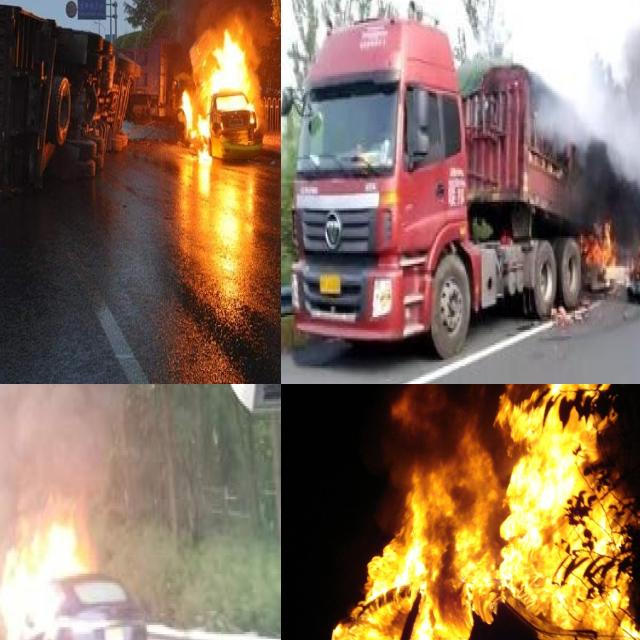fire: (325, 384, 640, 640), (180, 24, 262, 164), (0, 517, 90, 640), (564, 182, 640, 291)
smoke: (0, 384, 124, 543)
